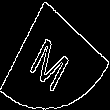M_NE: (31, 21, 79, 89)
